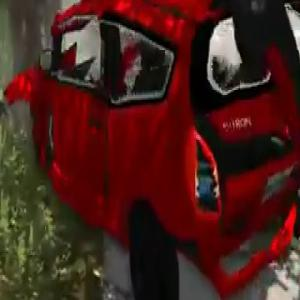serious: (1, 0, 300, 300)
